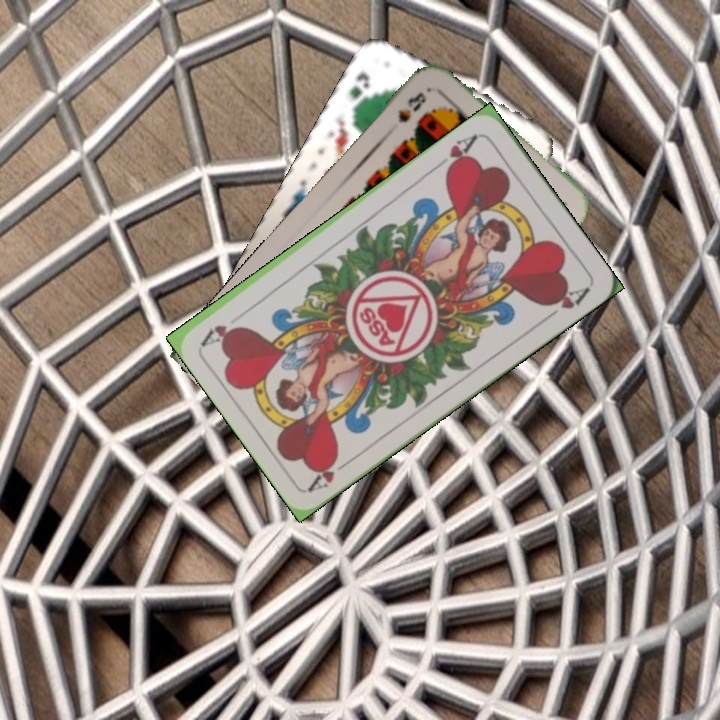GK: (345, 67, 373, 114)
HA: (431, 130, 481, 176), (305, 450, 357, 494)
S8: (393, 88, 429, 126)
